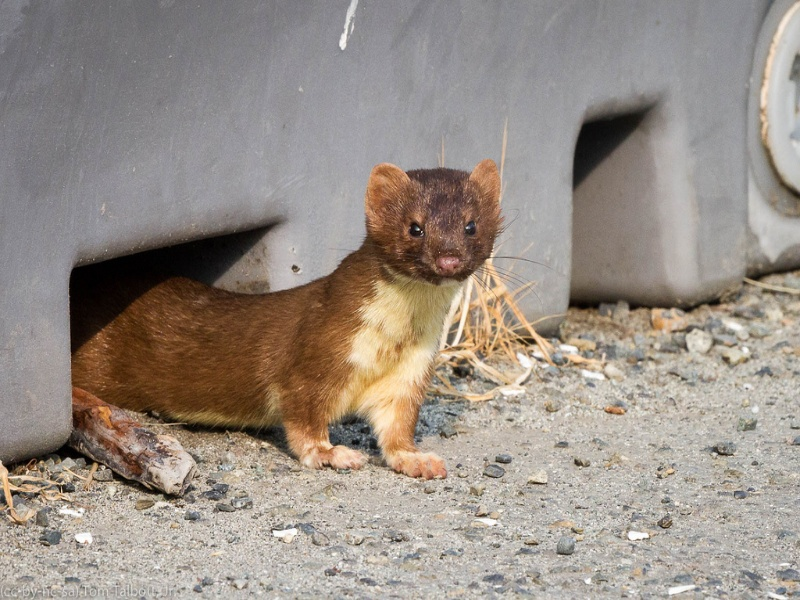minkish: (44, 153, 508, 480)
